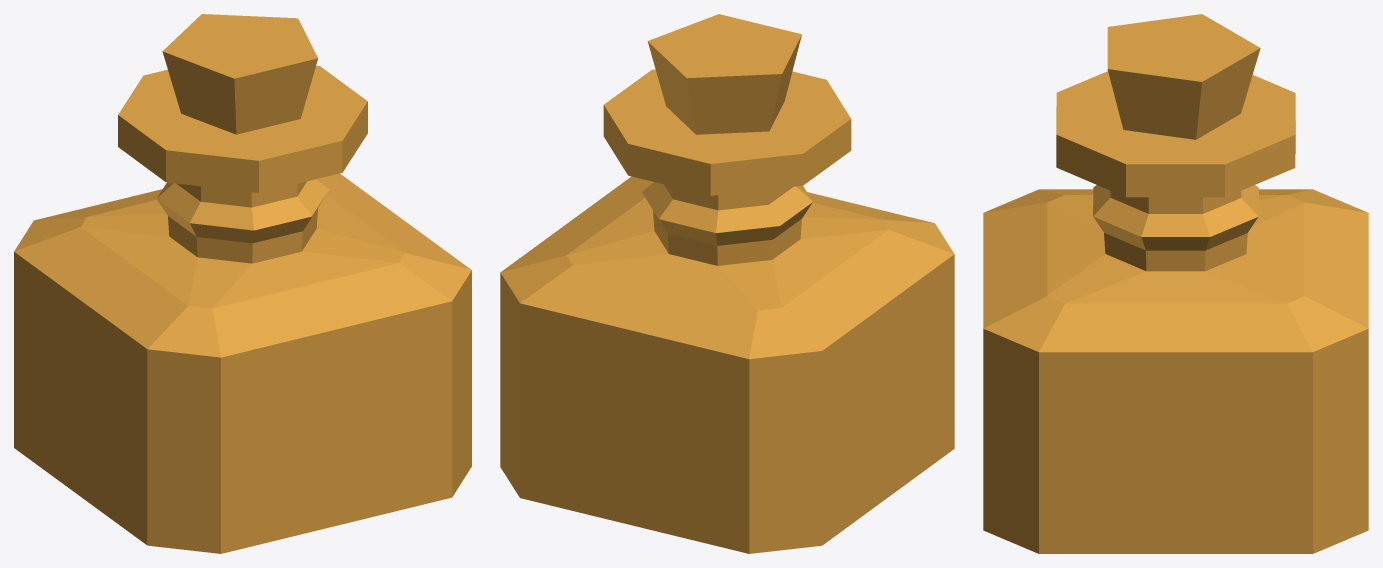
The model's file is SM_Bottle_Ink_Closed.fbx.
The picture shows the model from 3 angles, left to right: view 1: azimuth 30°, elevation 25°; view 2: azimuth 150°, elevation 25°; view 3: azimuth 270°, elevation 25°; orthographic projection. The views are drawn at different scales.
Visible parts, largest first — view 1: bottle-ink-closed; view 2: bottle-ink-closed; view 3: bottle-ink-closed.
Boxes of the visible parts, x1=… form: bottle-ink-closed: x1=14, y1=14, x2=471, y2=553; bottle-ink-closed: x1=500, y1=14, x2=954, y2=553; bottle-ink-closed: x1=983, y1=14, x2=1368, y2=553.
Bounding box in the file's own units: 0.07 × 0.0852 × 0.07.
